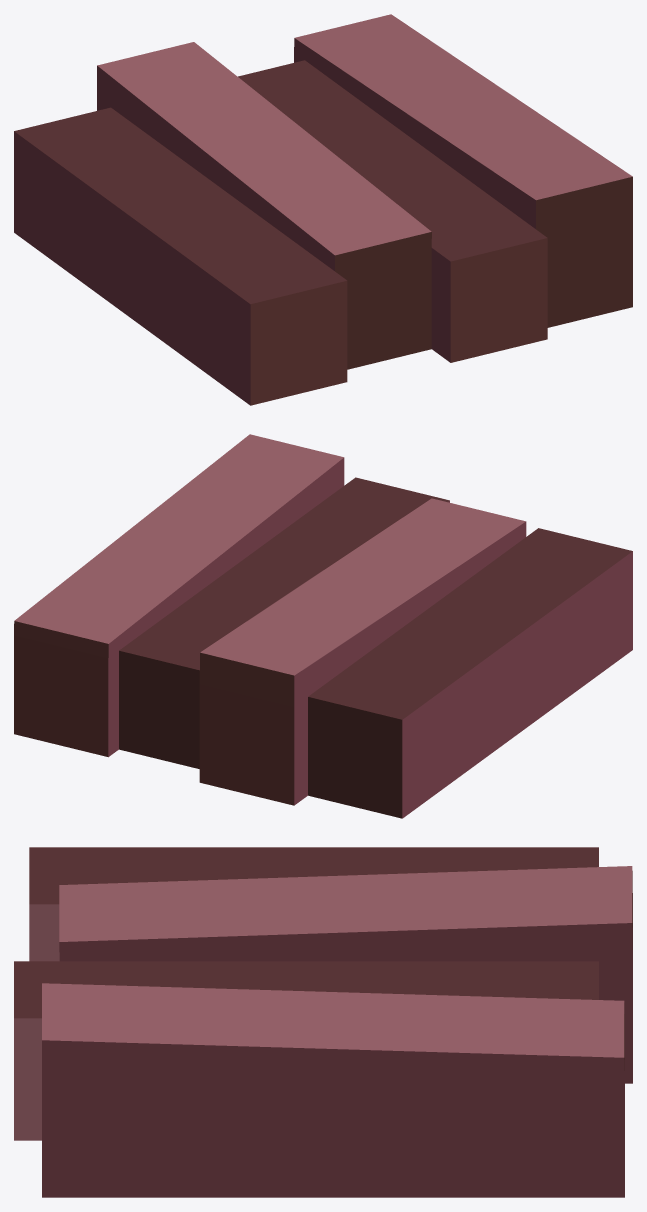
File: GR_Bridge_01.fbx
3 renders of one model, top to bottom at view 1: azimuth 30°, elevation 25°; view 2: azimuth 150°, elevation 25°; view 3: azimuth 270°, elevation 25°, orthographic. The views are drawn at different scales.
Parts seen in each view (by area): view 1: GR_Bridge_01; view 2: GR_Bridge_01; view 3: GR_Bridge_01.
Part boxes in pixels (x1,y1,x2,y2): GR_Bridge_01: (14, 14, 632, 405); GR_Bridge_01: (14, 434, 632, 818); GR_Bridge_01: (14, 847, 632, 1197).
Bounding box in the file's own units: 100 × 32.85 × 115.
